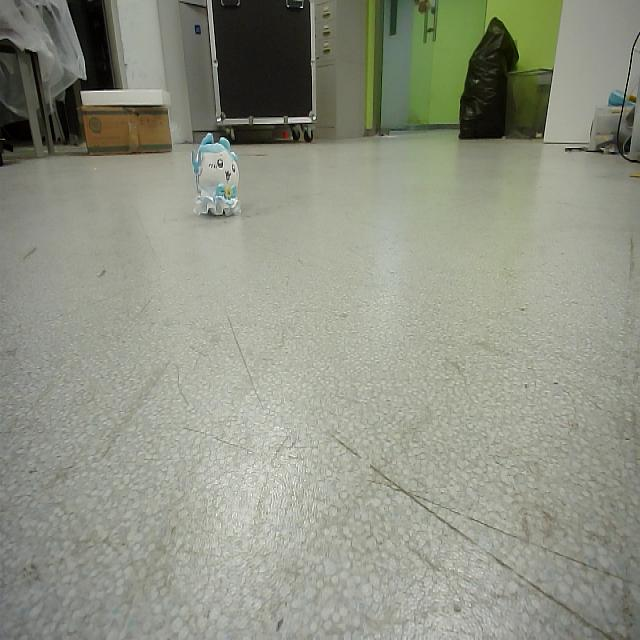xiaoba: (191, 132, 243, 218)
